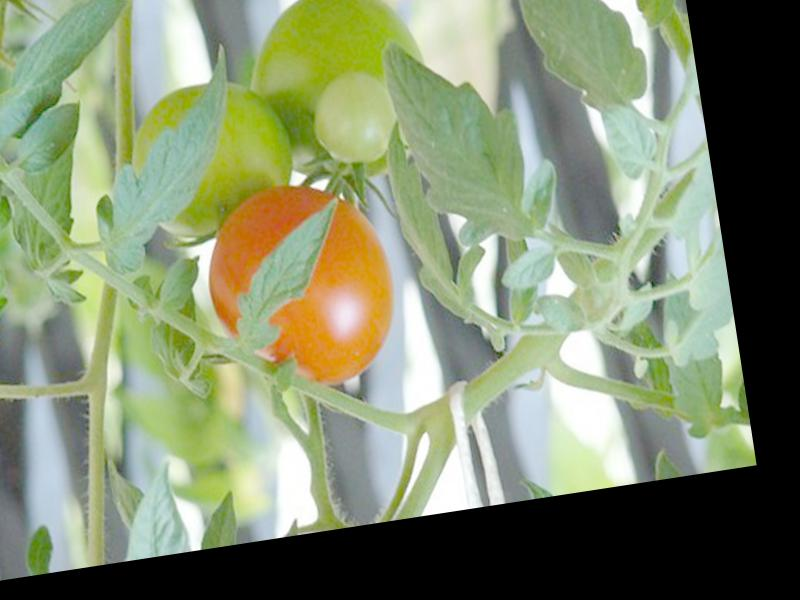Tomato: (196, 174, 407, 401)
